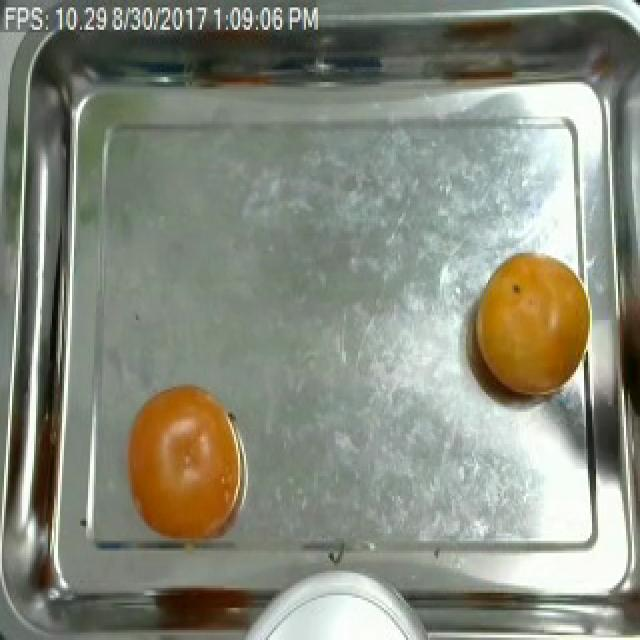Fruit: (116, 372, 256, 566), (460, 243, 588, 414), (148, 563, 286, 640)
